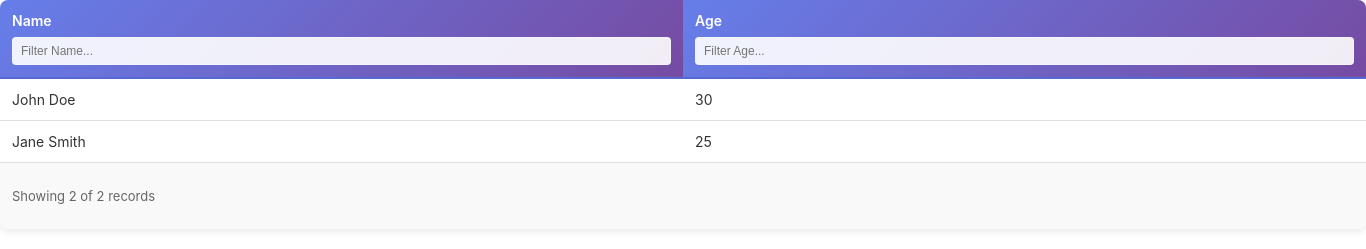
Scenario: DataGrid Component › filters data based on input
Type "John" into the field with placeholder "Filter Name..." at [342, 51], box [12,37,671,65]
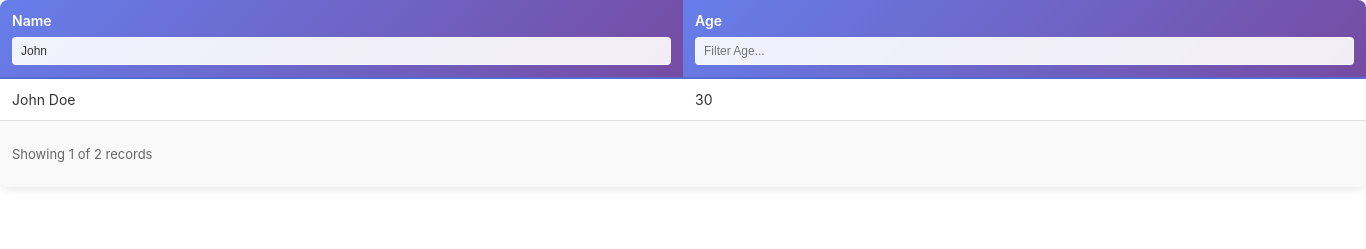
Expected: the text "John Doe" is shown, [0,78,683,120]
Now the text "Jane Smith" is gone
